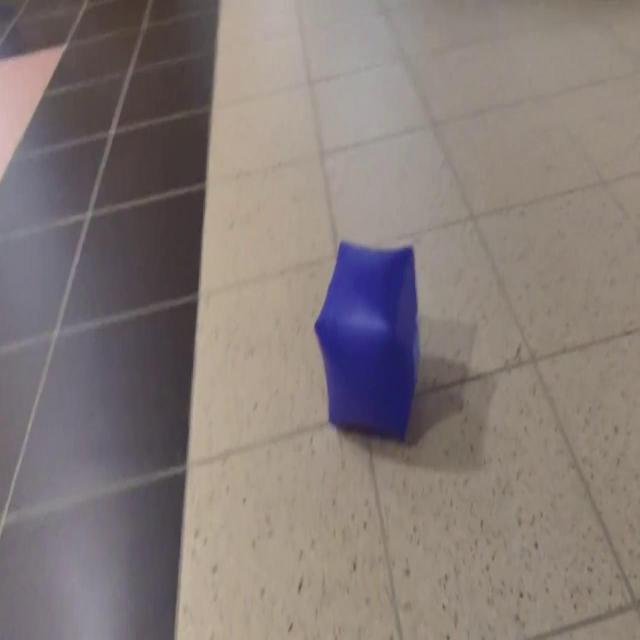frc_cube: (317, 244, 419, 439)
